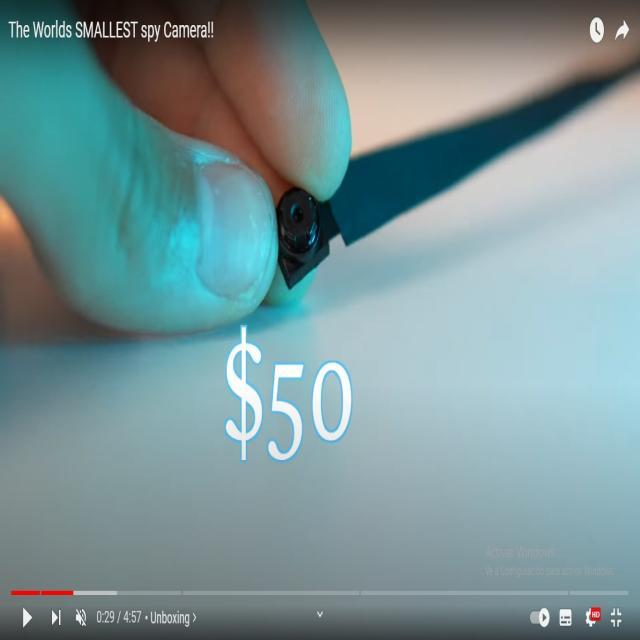hidden camera: (281, 190, 316, 240)
